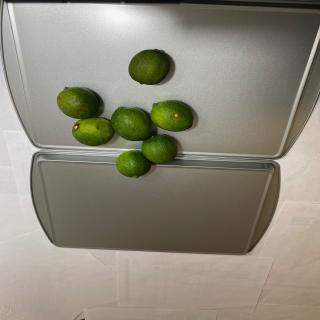Lemon: (128, 48, 170, 85), (111, 106, 152, 141), (57, 86, 99, 119), (150, 100, 193, 132), (72, 117, 115, 146), (141, 134, 178, 164), (116, 150, 151, 178)
